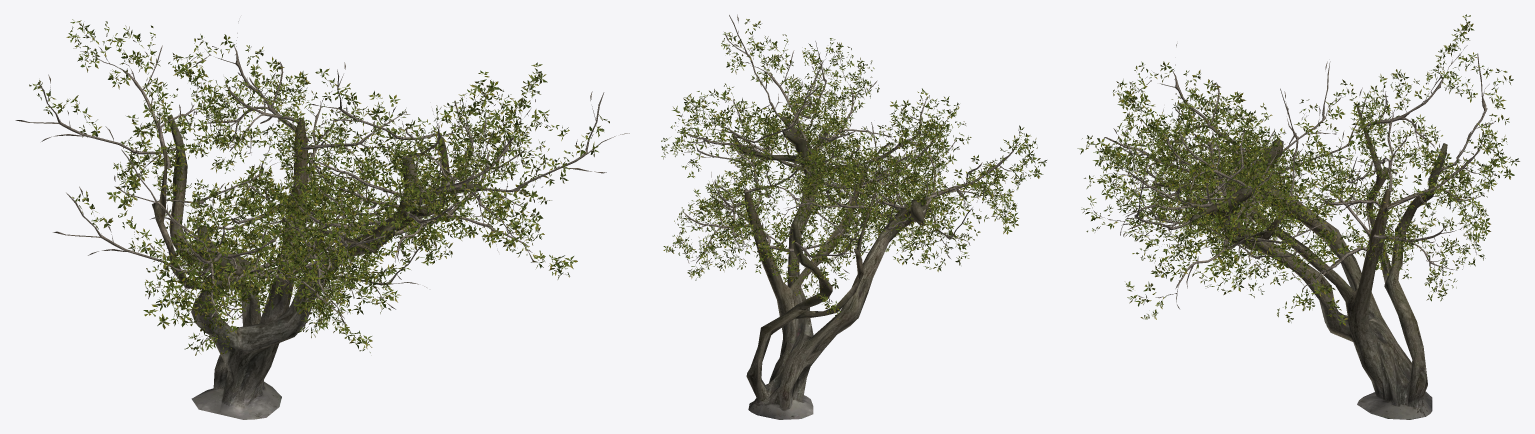
File: tree.glb
The picture shows the model from 3 angles, left to right: view 1: azimuth 30°, elevation 25°; view 2: azimuth 150°, elevation 25°; view 3: azimuth 270°, elevation 25°; orthographic projection. The views are drawn at different scales.
Parts seen in each view (by area): view 1: island_tree_02_LOD0; view 2: island_tree_02_LOD0; view 3: island_tree_02_LOD0.
Part boxes in pixels (x1,y1,x2,y2): island_tree_02_LOD0: [15, 19, 629, 419]; island_tree_02_LOD0: [661, 14, 1046, 419]; island_tree_02_LOD0: [1077, 14, 1519, 419].
Size of the model in its own units: 4.21 by 3.4 by 4.07.
Materials: 3 (3 with a texture image).
